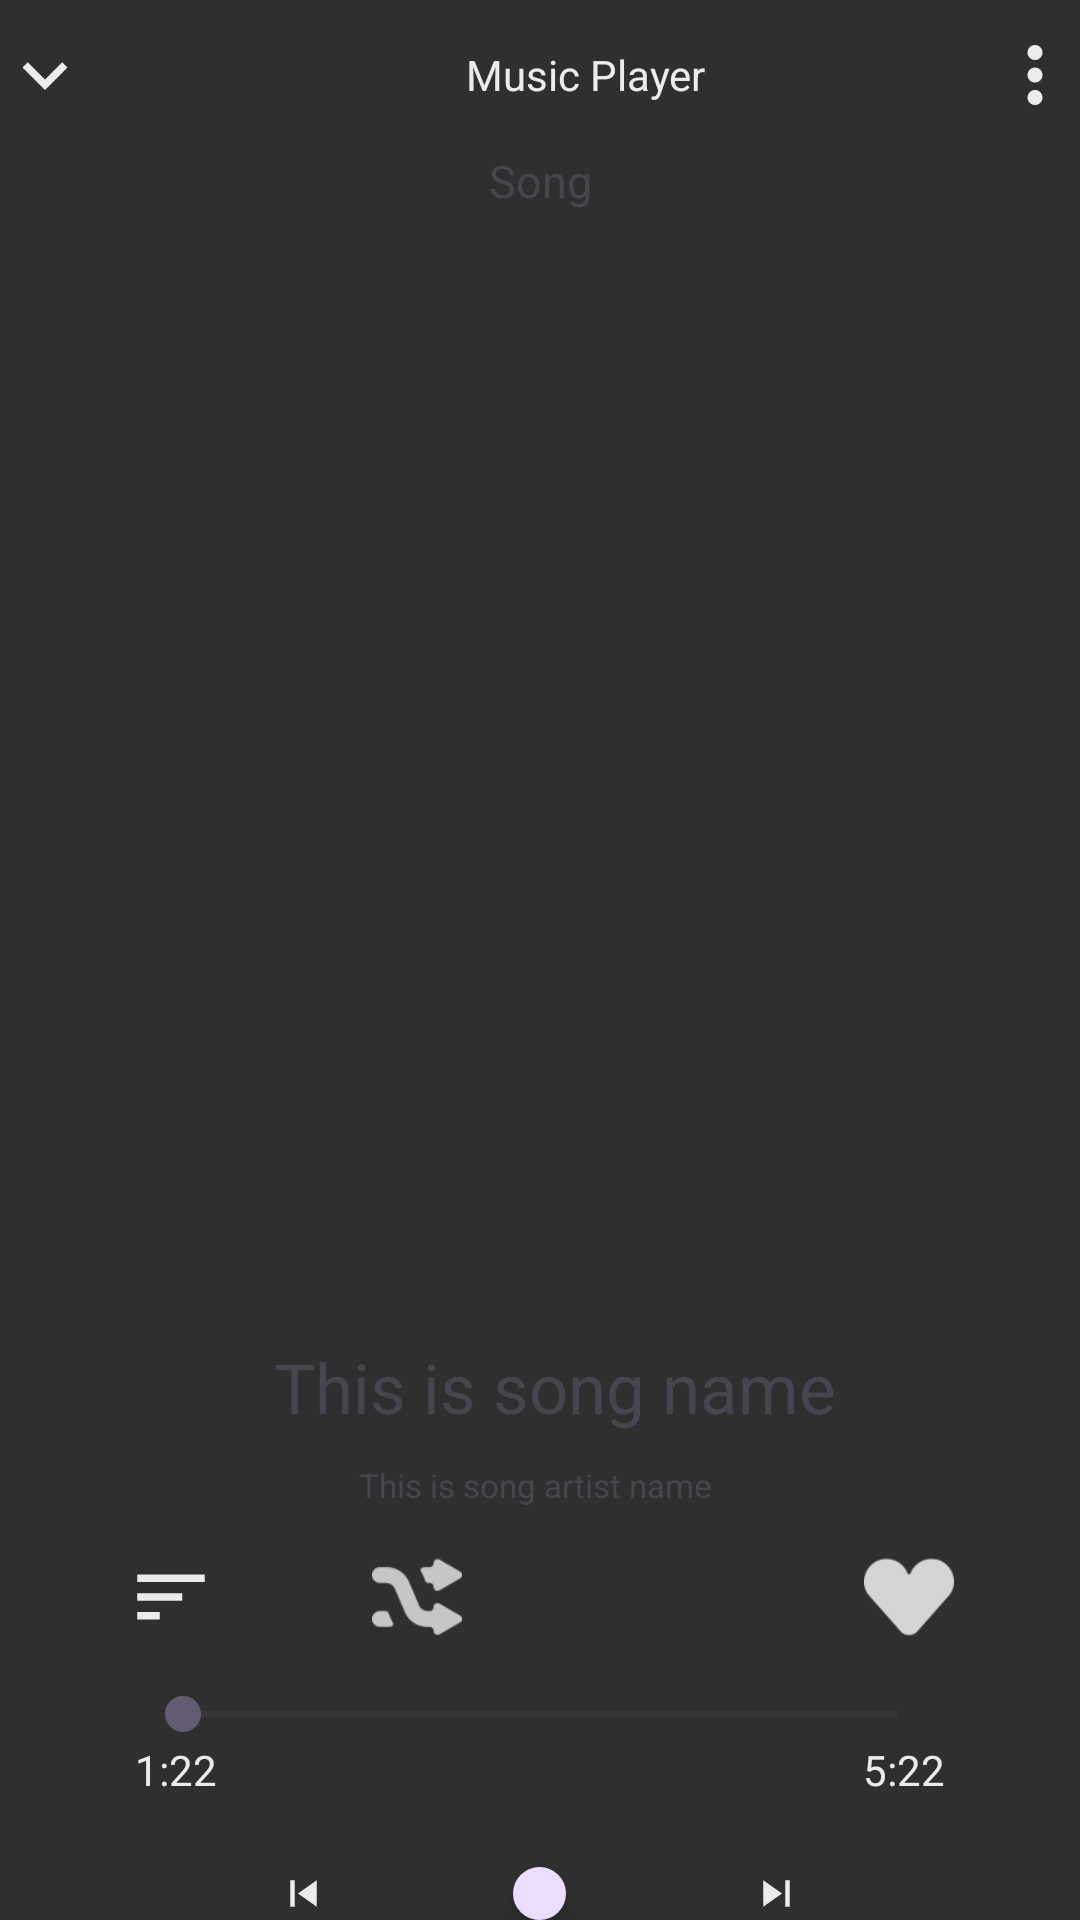

Icon bounding boxes for this 1080 × 1920 phone screenshot, format (x1, y1, x2, y2):
heart: (864, 1558, 954, 1636)
menu: (1027, 45, 1043, 105)
next: (763, 1880, 790, 1907)
player close: (22, 62, 68, 90)
prev: (290, 1880, 317, 1907)
shuffle: (372, 1558, 462, 1636)
sort: (137, 1574, 205, 1620)
